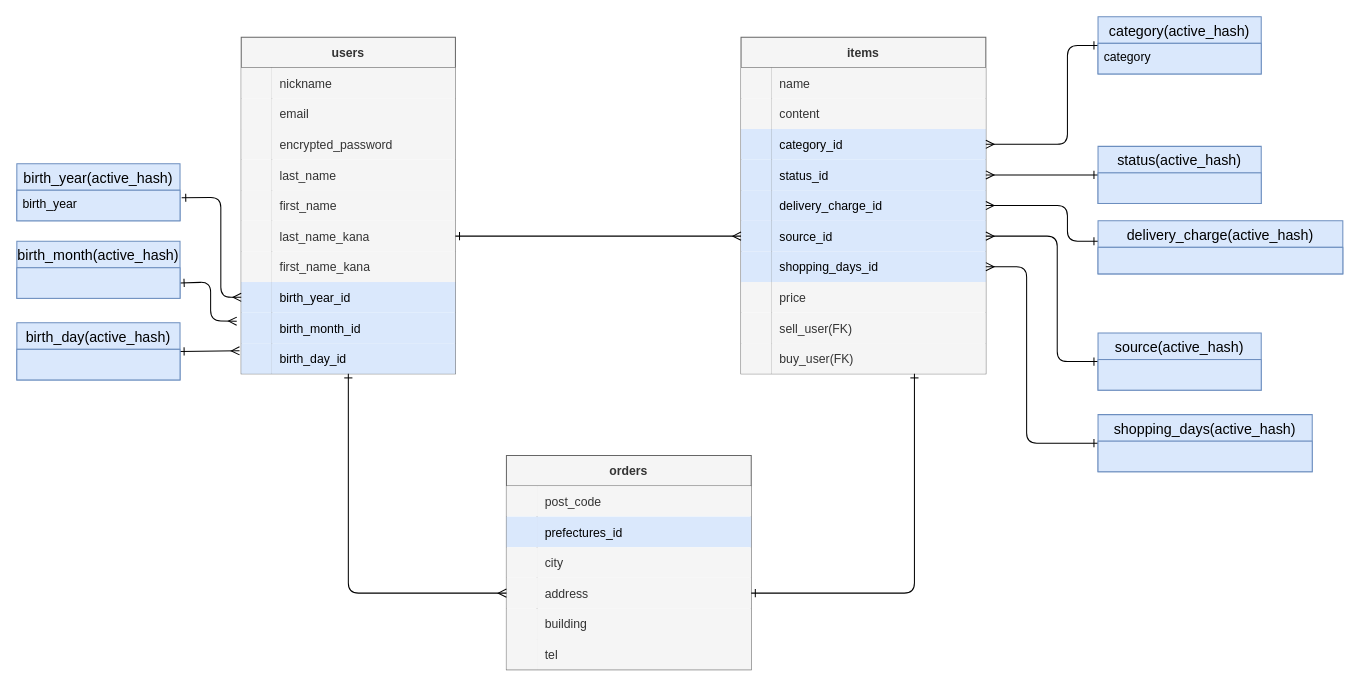
Image size: 1360x686. Some labels were removed from this diagram. Each missing label, with the centre of its shape:
"birth_day" goes at point (98, 364).
"birth_month" goes at point (98, 282).
"delivery_charge" goes at point (1220, 260).
"shopping_days" goes at point (1204, 456).
"source" goes at point (1179, 374).
"status" goes at point (1179, 187).
